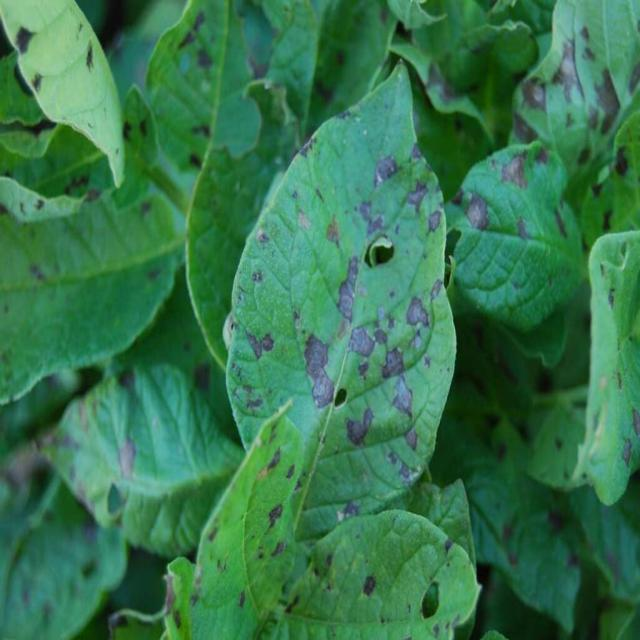earlyblight: (304, 335, 334, 408), (382, 348, 412, 417), (355, 195, 386, 240), (338, 256, 359, 320), (348, 326, 386, 358), (346, 408, 374, 445), (501, 152, 528, 189), (465, 193, 489, 229), (374, 156, 398, 186), (406, 296, 429, 327), (406, 180, 428, 212), (247, 332, 274, 358), (336, 500, 360, 521), (399, 461, 415, 485), (326, 217, 339, 245), (405, 433, 416, 447), (389, 452, 399, 465), (375, 330, 385, 340)
